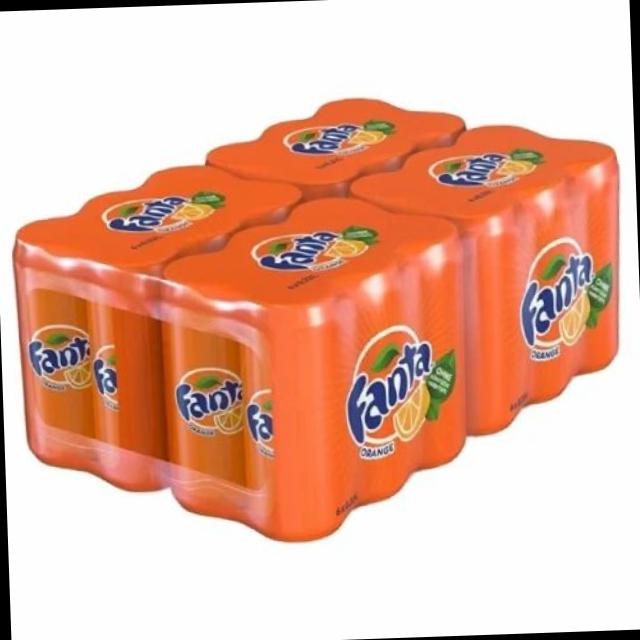fanta: (242, 290, 360, 539), (12, 219, 122, 479), (84, 234, 174, 496), (166, 260, 256, 516)
